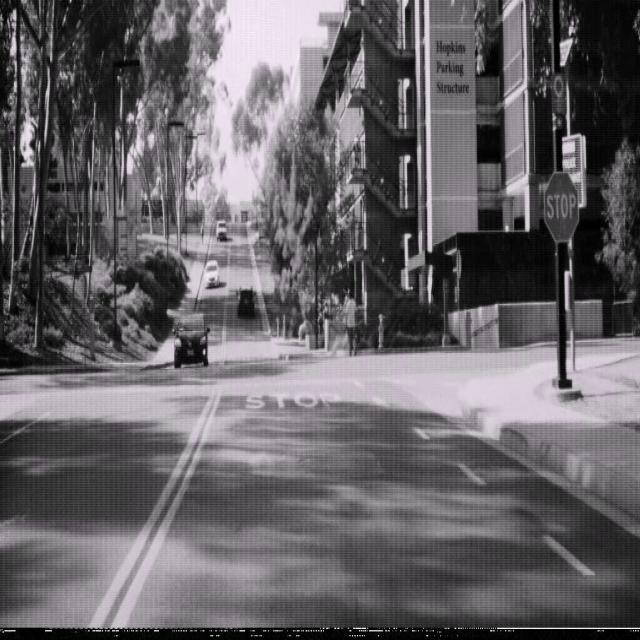stop_sign: (542, 170, 580, 243)
